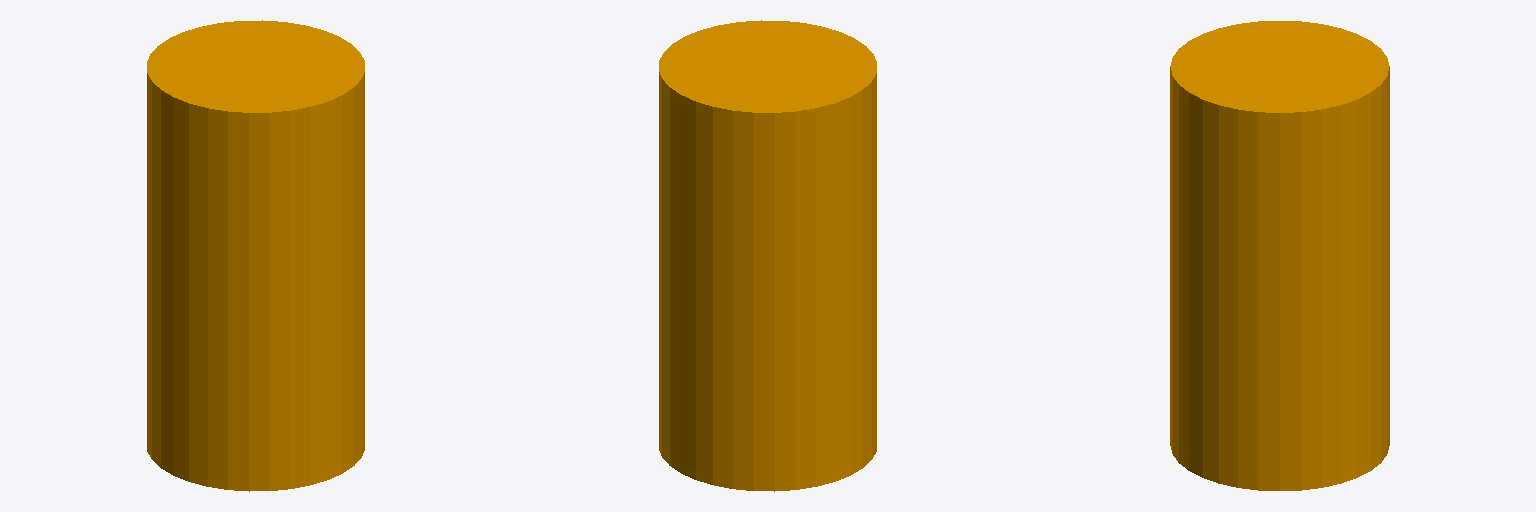
The robot description file, URDF, robot "object_cylinder":
<?xml version="1.0" ?>
<robot name="object_cylinder">
	<link name="cylinder">
		<inertial>
			<mass value="0.2"/>
			<inertia  ixx="0.000263" ixy="0.00"  ixz="0.00" iyy="0.000263" iyz="0.00" izz="0.00009" />
		</inertial>
		<visual>
			<origin xyz="0 0 0" rpy="0 0 0"/>
			<geometry>
				<cylinder length="0.1143" radius="0.03"/>
			</geometry>
		</visual>
		<collision>
			<origin xyz="0 0 0" rpy="0 0 0"/>
			<geometry>
				<cylinder length="0.1143" radius="0.03"/>
			</geometry>
		</collision>
	</link>
</robot>

--- Facts derived from the render (not from the file) ---
The picture shows the robot from 3 angles, left to right: view 1: azimuth 30°, elevation 25°; view 2: azimuth 150°, elevation 25°; view 3: azimuth 270°, elevation 25°; orthographic projection.
Robot: object_cylinder — 1 links, 0 joints (none); root link cylinder; default pose: every joint at zero.
Links seen in each view (by area): view 1: cylinder; view 2: cylinder; view 3: cylinder.
Boxes of the visible links, bbox=[...] form: cylinder: bbox=[147, 20, 364, 491]; cylinder: bbox=[659, 20, 876, 491]; cylinder: bbox=[1170, 21, 1389, 490].
Bounding box of the posed robot: 0.06 × 0.06 × 0.1143 m (x, y, z).
Geometry: primitives only (box / cylinder / sphere), no mesh files.